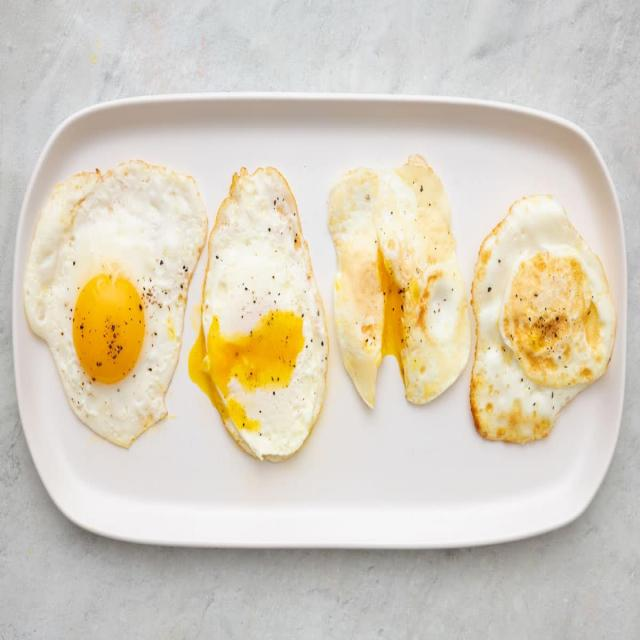Egg: (24, 161, 208, 447), (190, 167, 329, 460), (470, 195, 616, 442), (329, 156, 469, 407), (374, 156, 471, 404)
